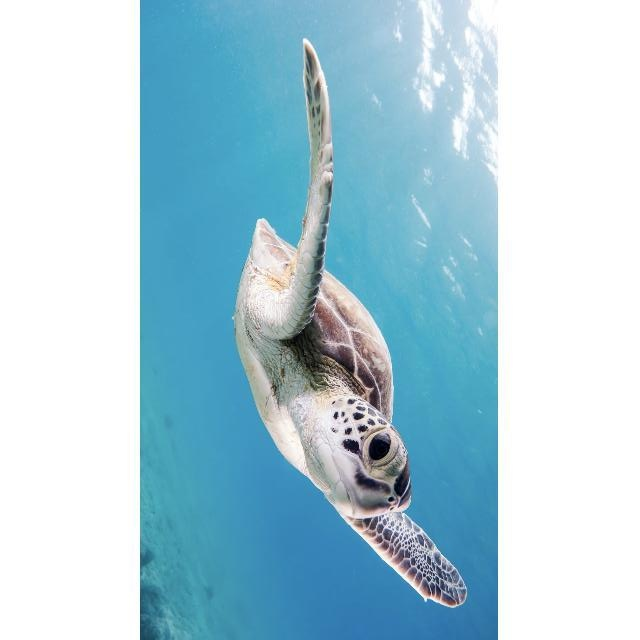turtle: (232, 35, 468, 610)
